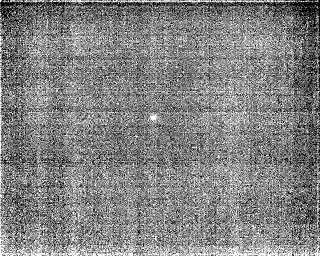BIRD: (148, 112, 159, 124)
